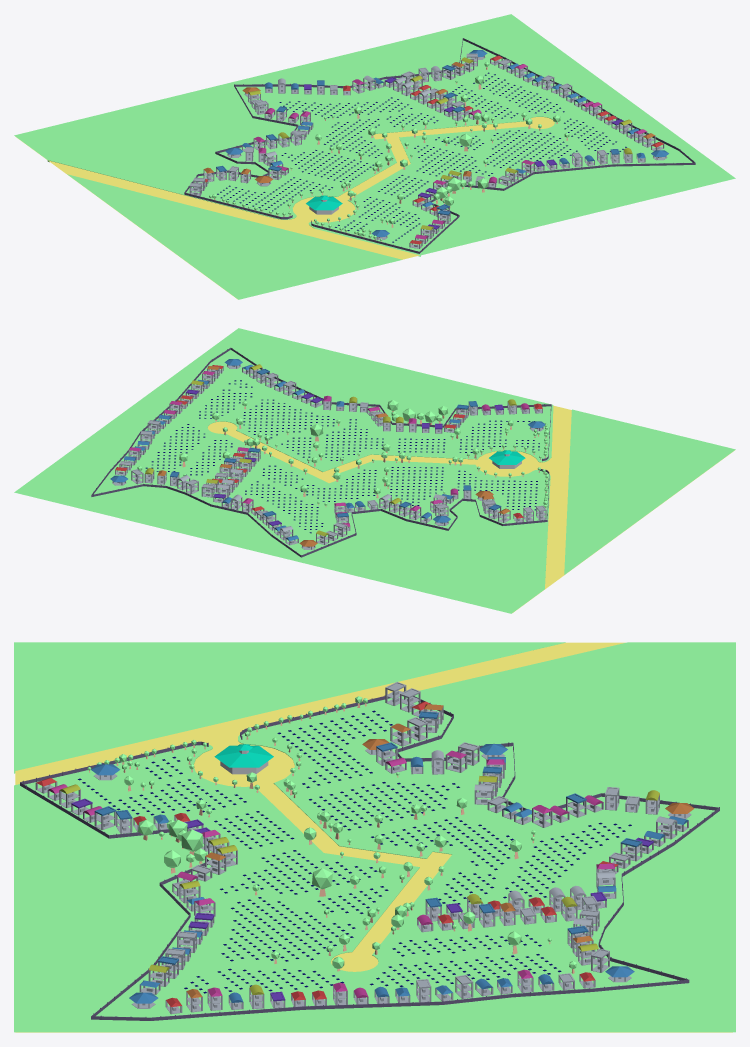
Rendered from 3dmap_clean_2.glb.
3 renders of one model, top to bottom at view 1: azimuth 30°, elevation 25°; view 2: azimuth 150°, elevation 25°; view 3: azimuth 270°, elevation 25°, orthographic. The views are drawn at different scales.
Parts seen in each view (by area): view 1: Ground, Chapel; view 2: Ground, Chapel; view 3: Ground, Chapel.
Boxes of the visible parts, x1=… form: Ground: x1=14, y1=14, x2=735, y2=299; Chapel: x1=306, y1=195, x2=342, y2=214; Ground: x1=14, y1=328, x2=735, y2=613; Chapel: x1=489, y1=450, x2=525, y2=468; Ground: x1=14, y1=642, x2=735, y2=1032; Chapel: x1=214, y1=744, x2=273, y2=774.
Size of what is drawn, in the model's own units: 308 by 13.38 by 241.
